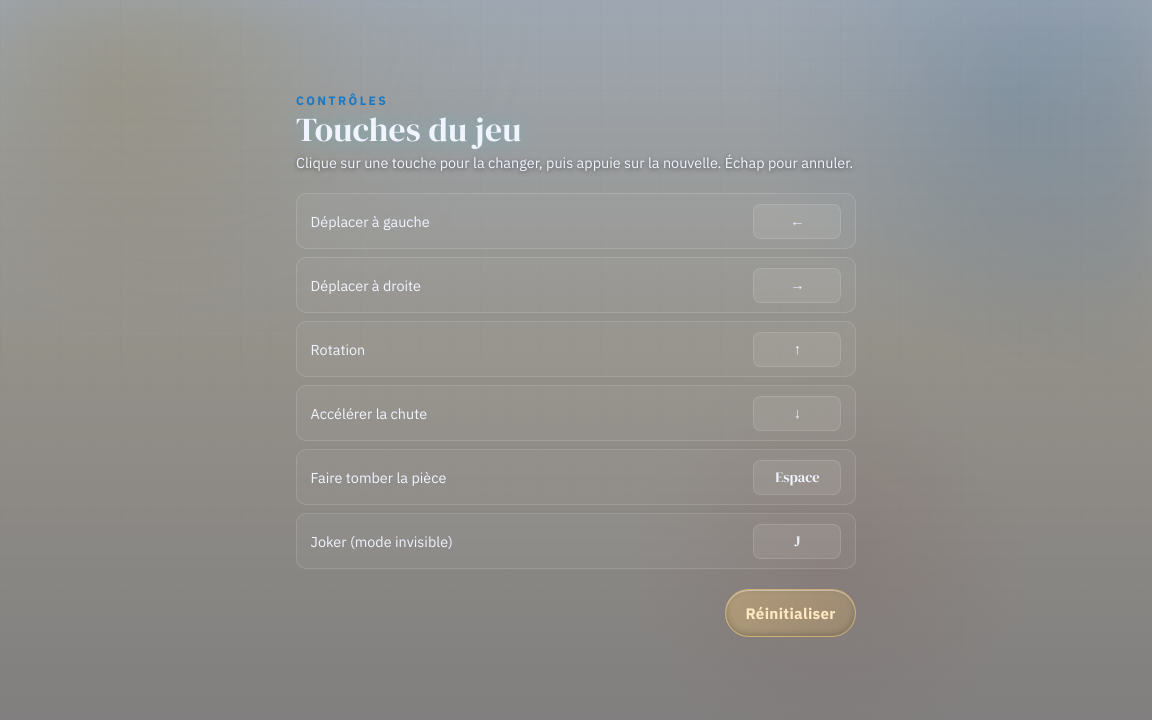
Test case: KeyBindingsScreen › annule la capture avec Echap
Click the button named "Changer la touche : Rotation" at (797, 349), box [753, 332, 841, 367]
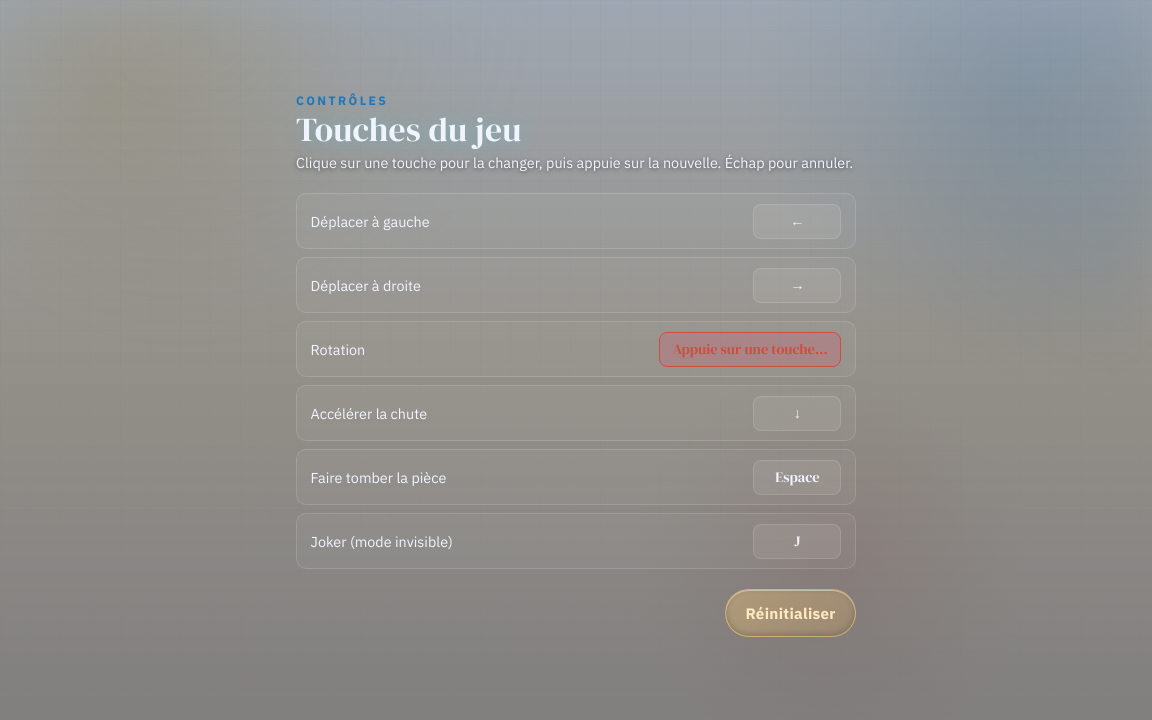
Press Escape
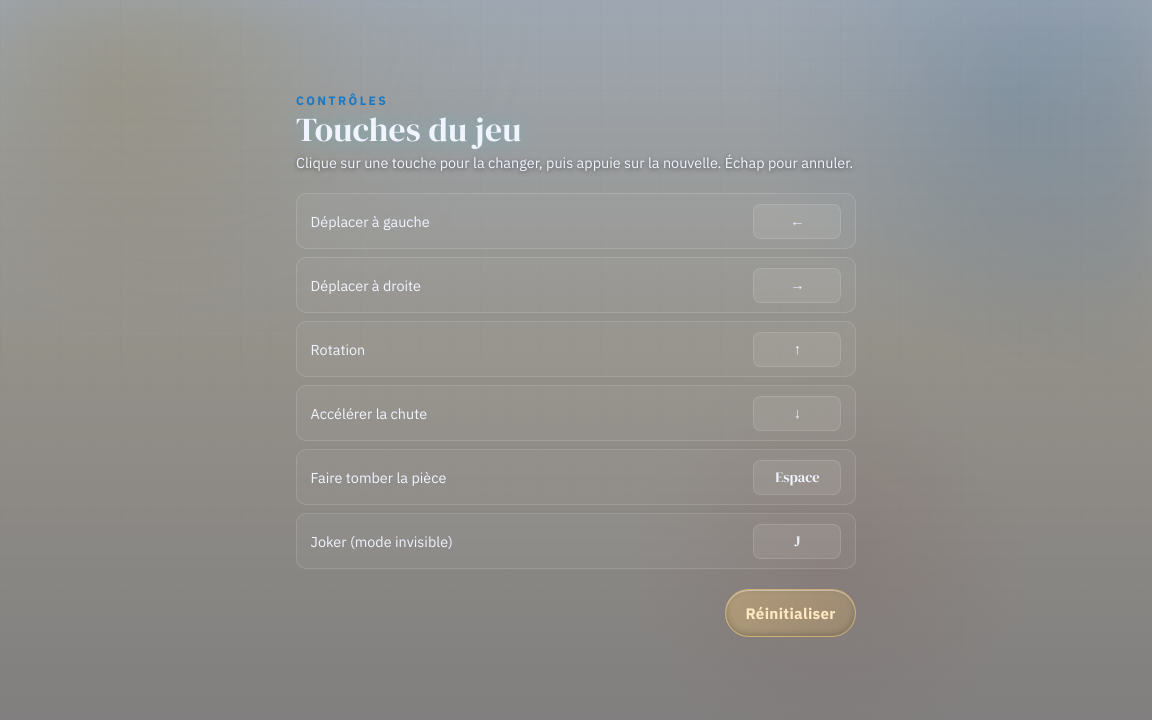
Expected: the button "Appuie sur une touche…" is gone
